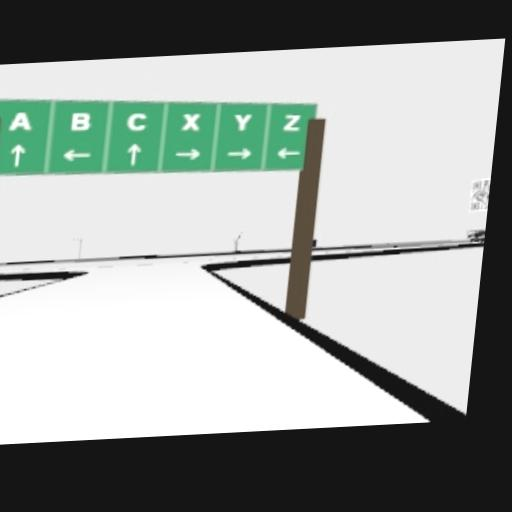A: (6, 110, 32, 130)
B: (69, 111, 90, 131)
C: (126, 111, 148, 131)
Left: (61, 148, 92, 162), (275, 146, 300, 159)
Right: (172, 148, 202, 161), (231, 147, 252, 160)
Straight: (8, 143, 25, 166), (125, 142, 141, 165)
X: (180, 111, 201, 131)
Y: (233, 113, 251, 131)
Z: (281, 113, 300, 131)
